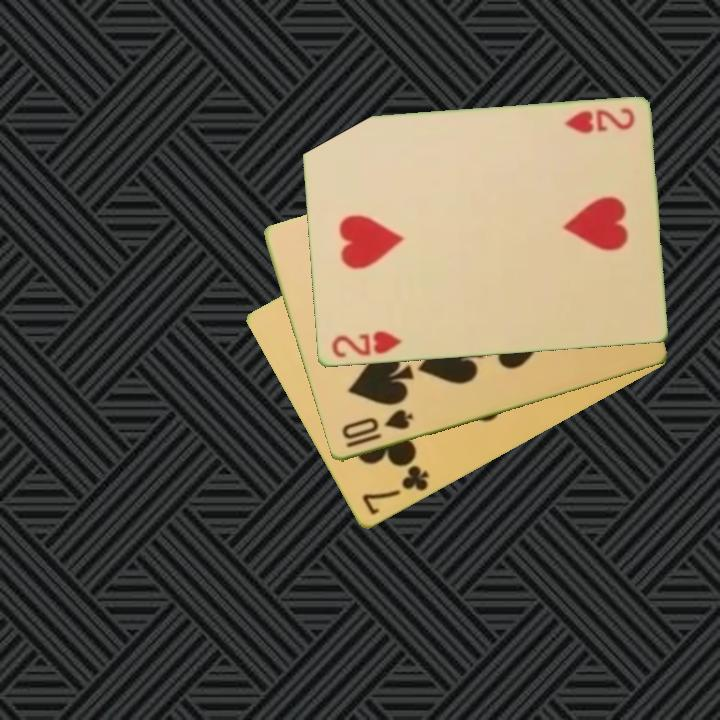10s: (338, 406, 416, 451)
2h: (328, 328, 405, 361), (560, 104, 637, 137)
7c: (358, 462, 432, 519)
